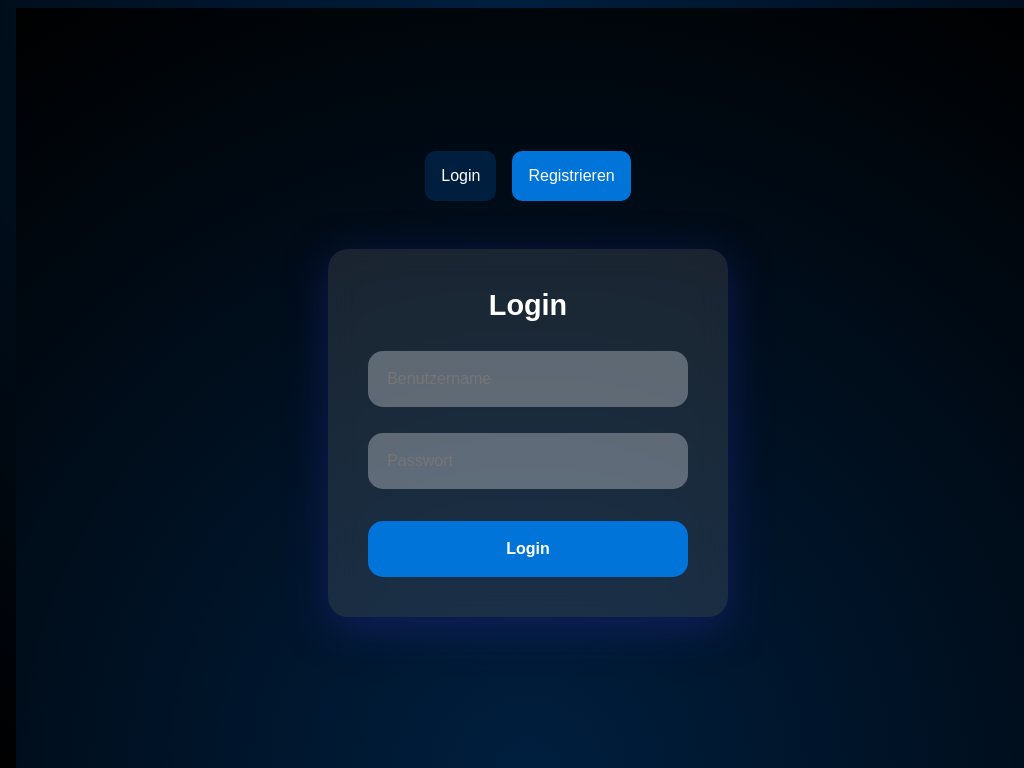
Login and Logout Tests › should fail to log in with incorrect credentials
This screenshot has width=1024, height=768.
Type "WrongUser" into the field with placeholder "Benutzername" at (528, 379), box [368,351,688,407]
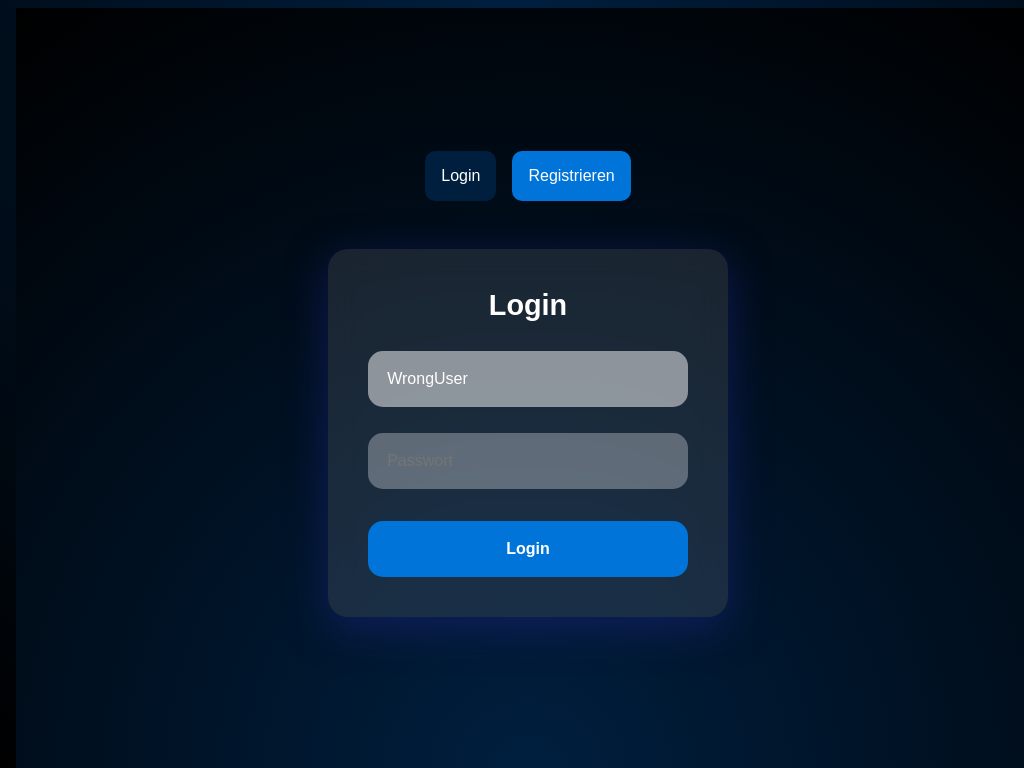
Type "WrongPassword" into the password field with placeholder "Passwort" at (528, 461), box [368,433,688,489]
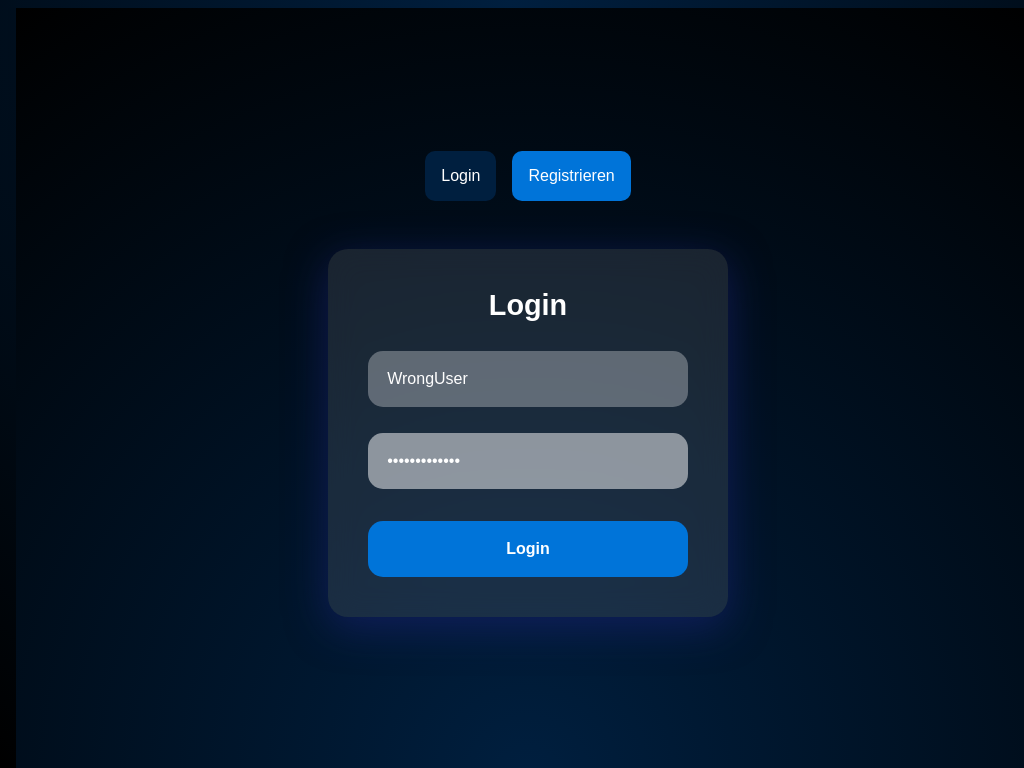
Click the 2nd button "Login" at (528, 549), box [368,521,688,577]
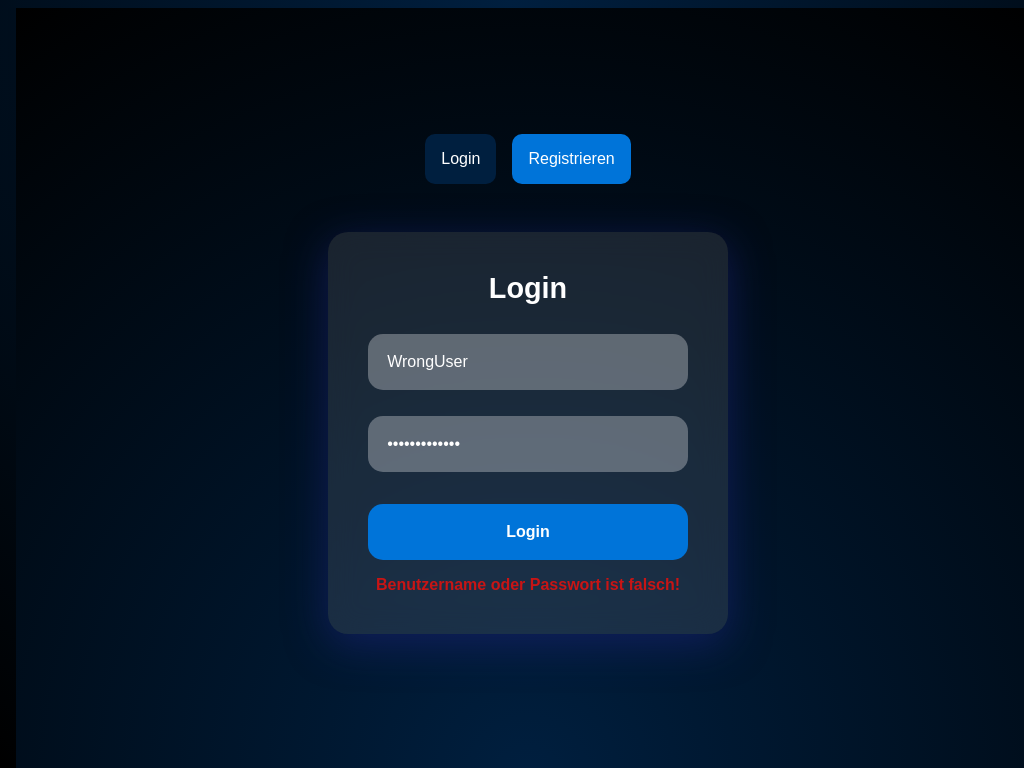
Now the text with class "error" reads "Benutzername oder Passwort ist falsch!", box [368,576,688,594]
